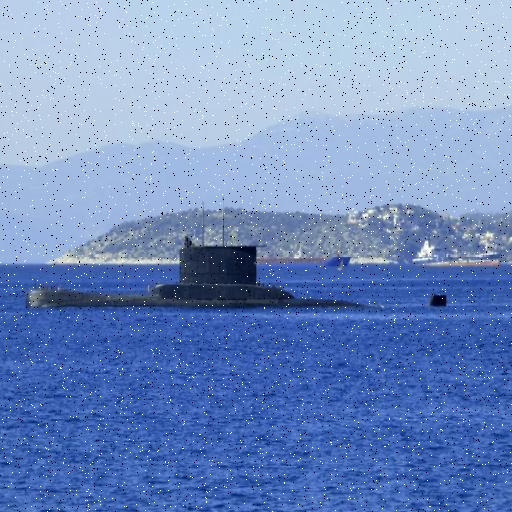submarine: (25, 198, 454, 312)
